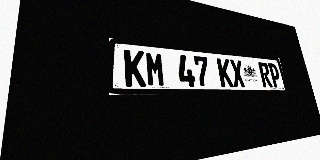4: (177, 54, 196, 87)
7: (193, 56, 211, 87)
K: (124, 49, 146, 87), (216, 58, 234, 87)
M: (145, 51, 166, 87)
P: (268, 63, 282, 87)
R: (258, 62, 273, 87)
X: (229, 59, 246, 87)
